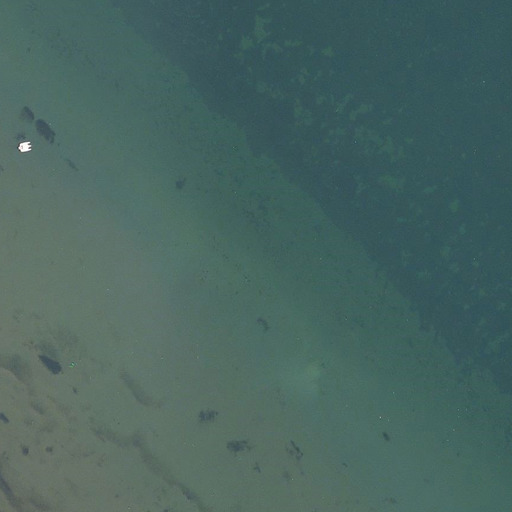ship: (16, 140, 33, 154)
